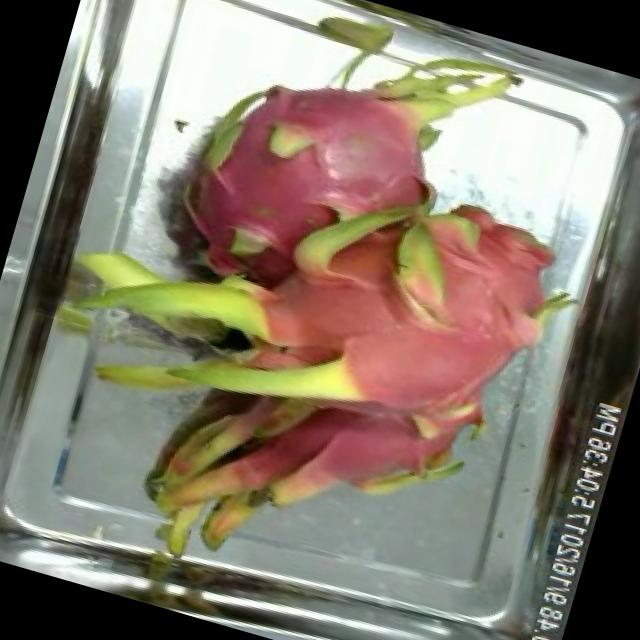Fruit: (360, 172, 592, 392)
